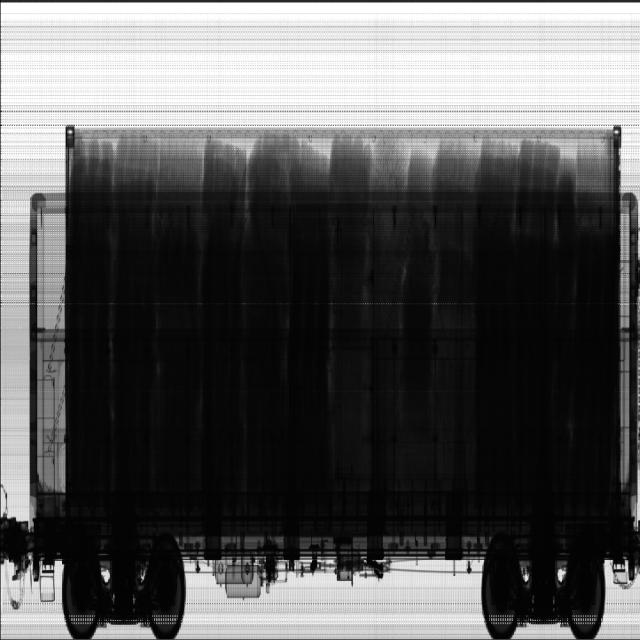clothes: (70, 138, 616, 521)
